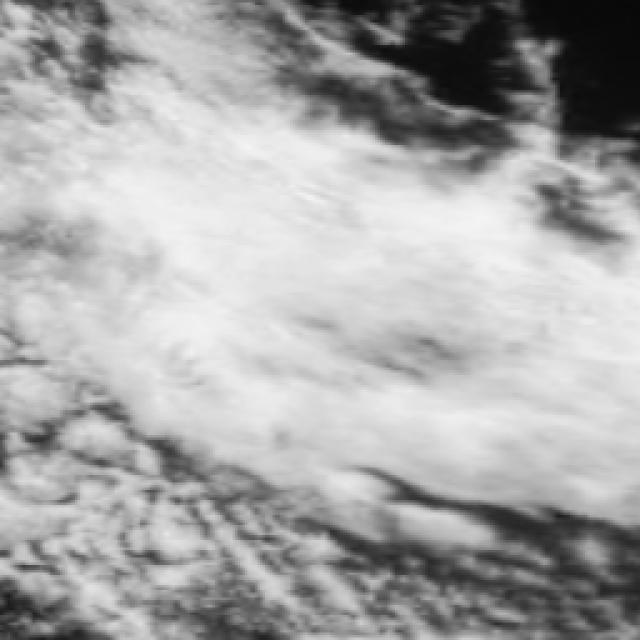CB: (171, 160, 429, 295), (527, 272, 640, 445)
